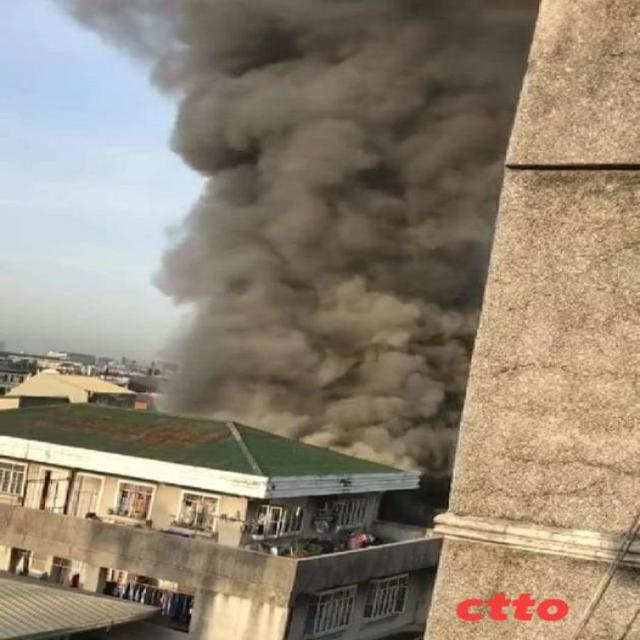Smoke: (163, 0, 543, 480)
